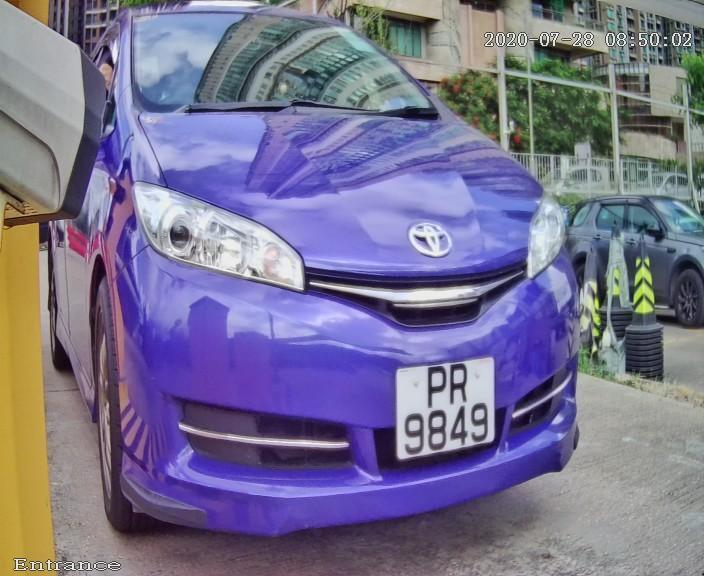privatecar: (19, 26, 657, 553)
